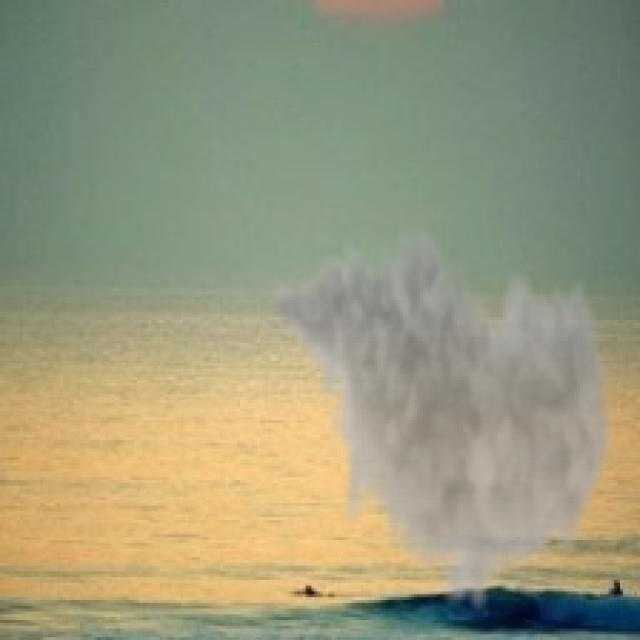Smoke: (266, 217, 618, 620)
